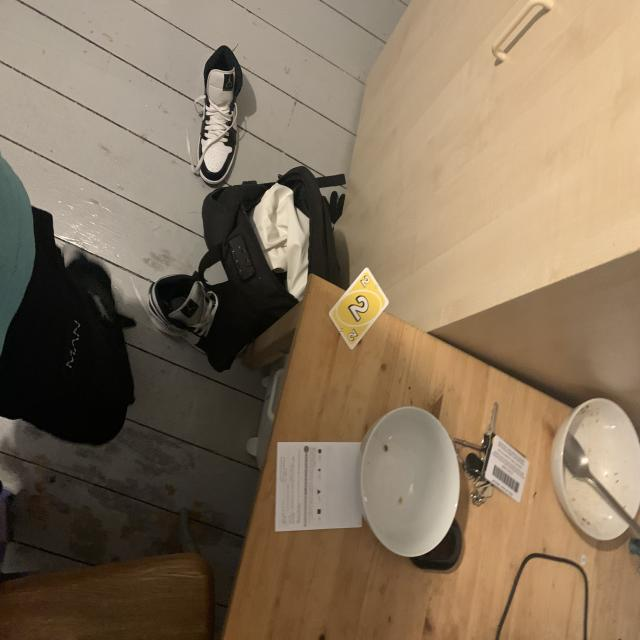lyellow-2: (358, 272, 372, 290)
